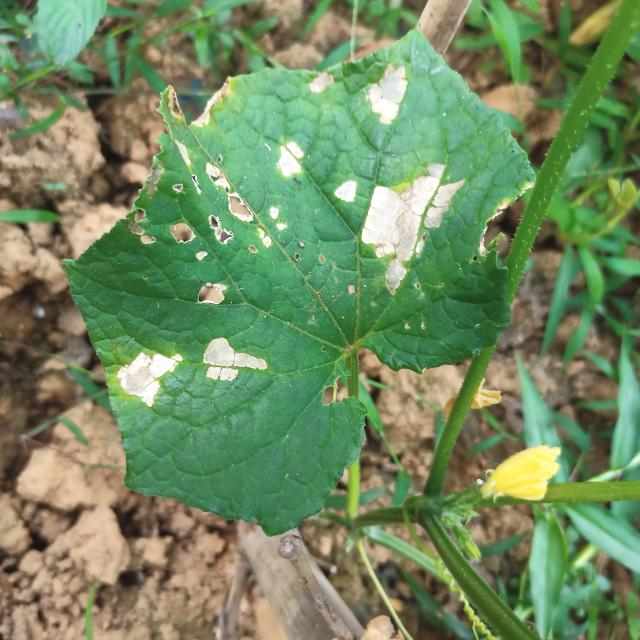disease_cucumber: (359, 157, 465, 287), (198, 159, 286, 252), (270, 137, 358, 209), (117, 339, 183, 413), (199, 332, 269, 390), (362, 62, 422, 125)
